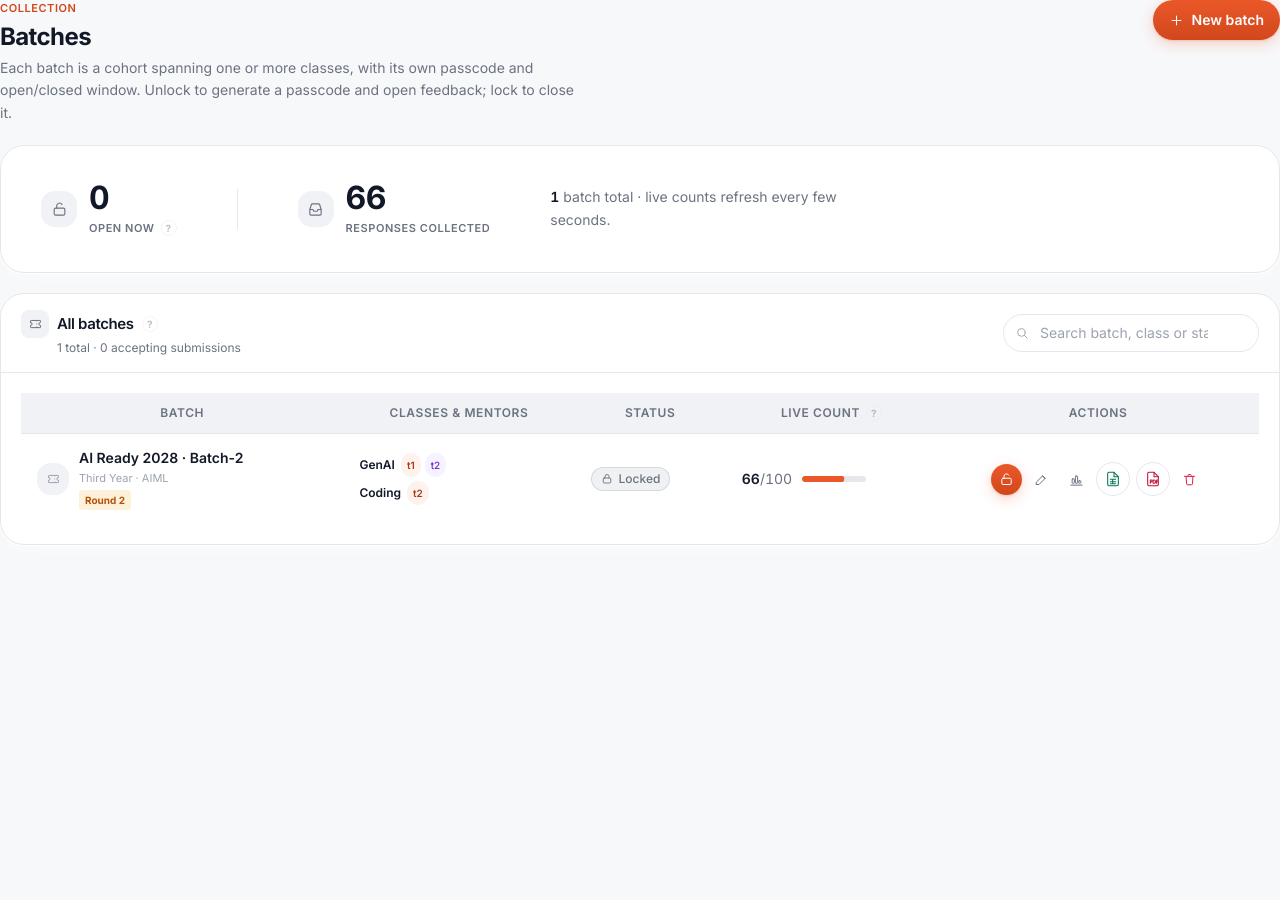
Test case: editing a batch › refuses a cap below the responses already collected
expect the text "AI Ready 2028 · Batch-2" is shown: met, box [79, 448, 244, 468]
Click the button named "Edit this batch": (1042, 479) [1026, 464, 1057, 495]
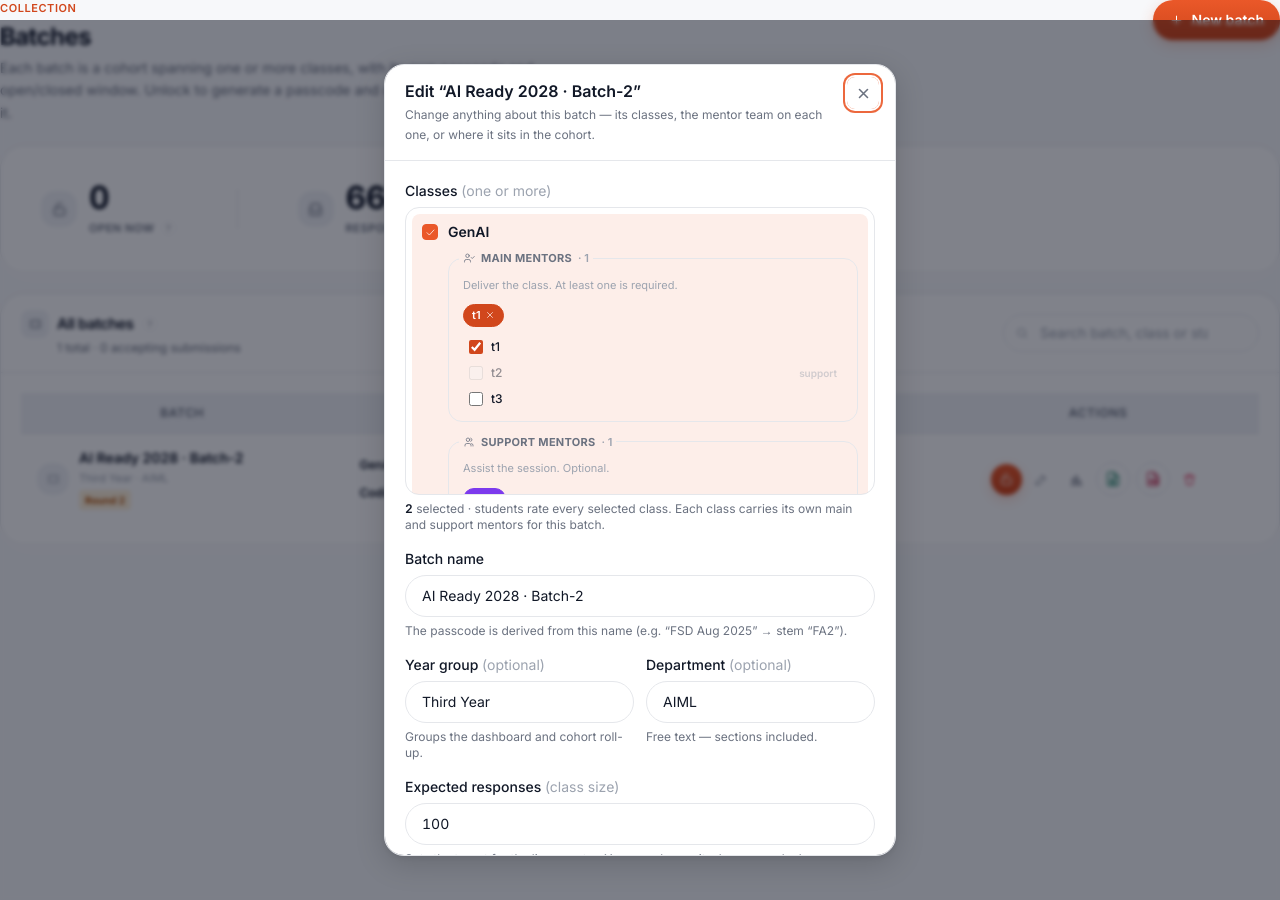
Replace the text in the number field showing "100" with "10": (640, 824) [405, 803, 875, 845]
(page scrolled)
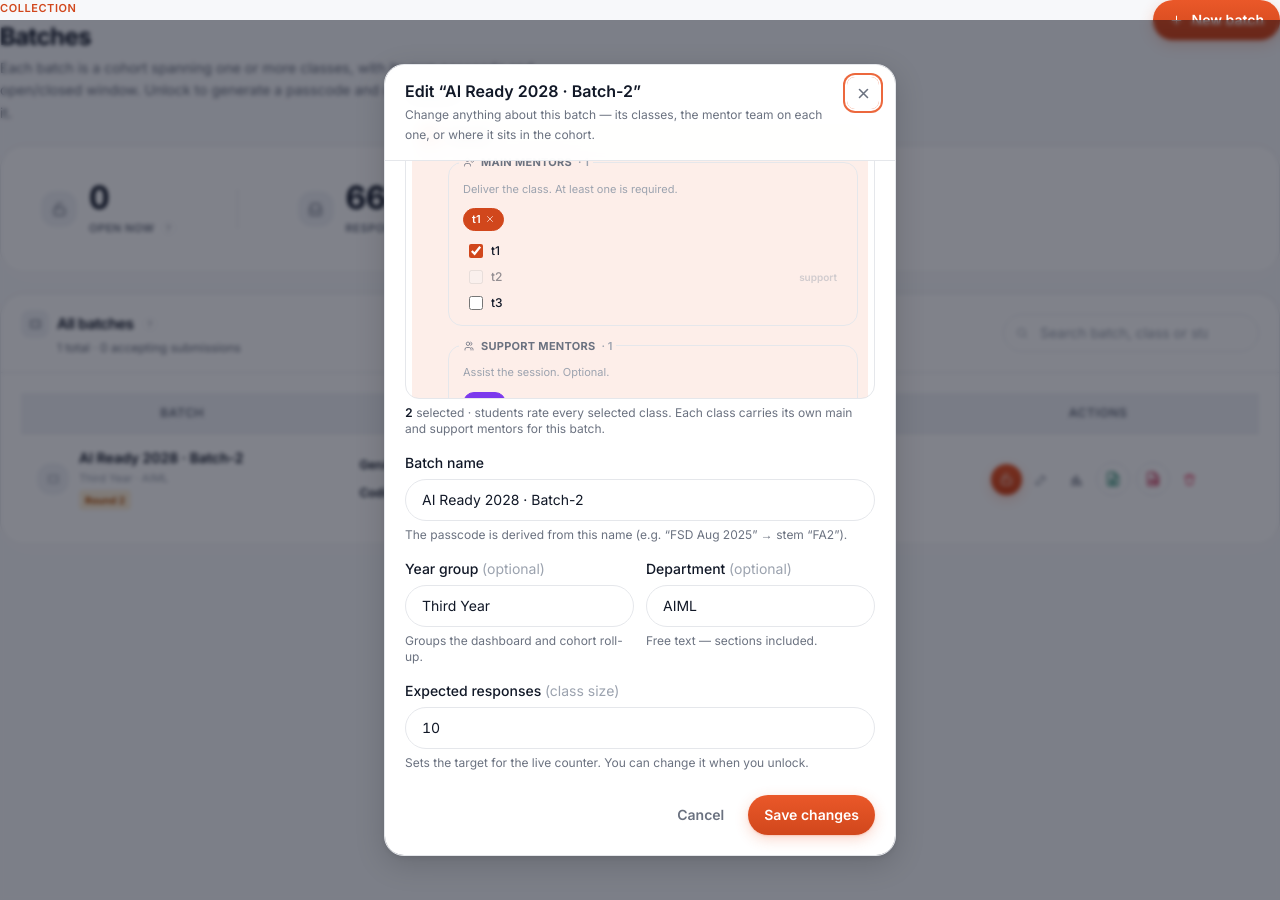
Click the button "Save changes": (812, 815) [748, 795, 875, 835]
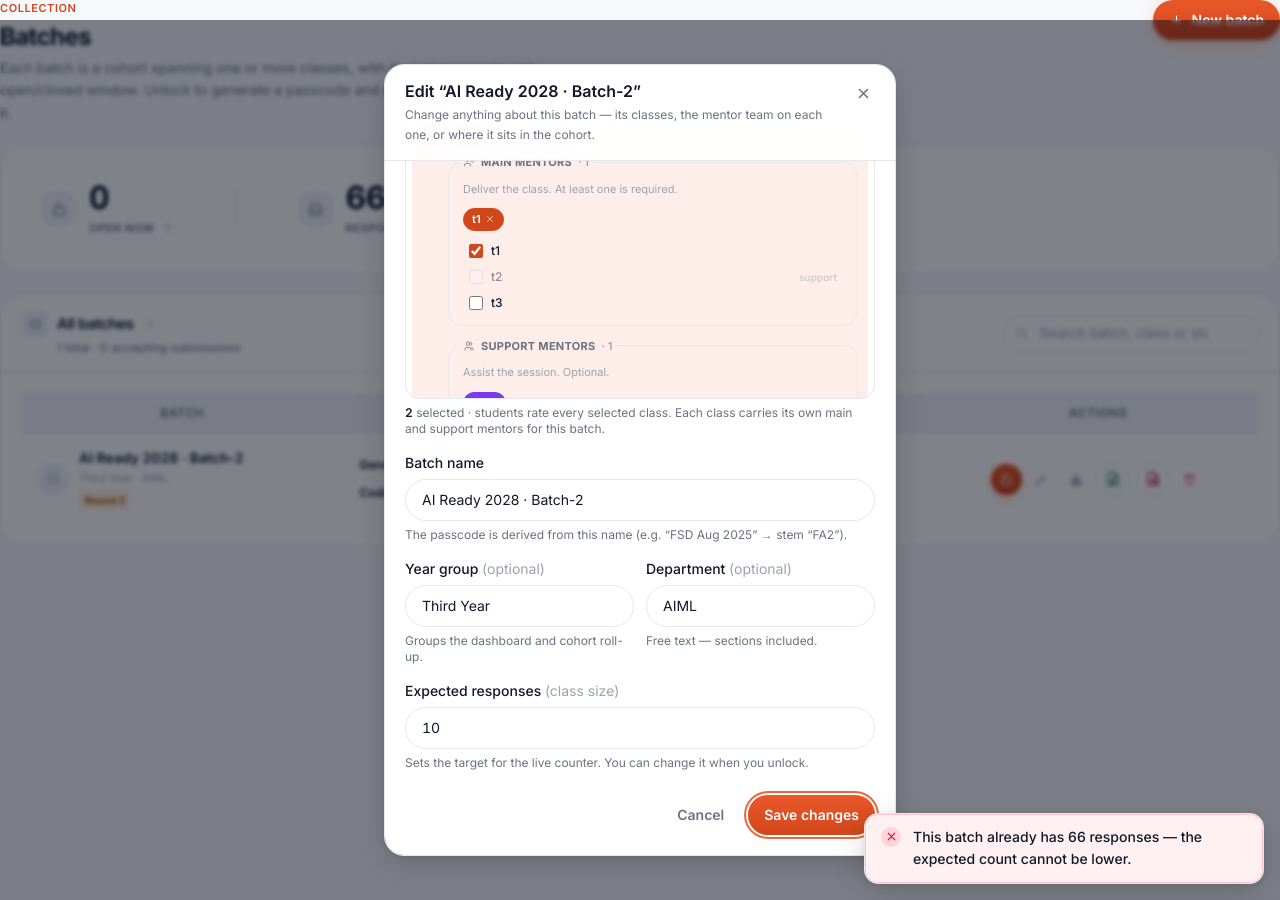
expect the text "already has 66 responses" is shown: met, box [913, 828, 1202, 867]
